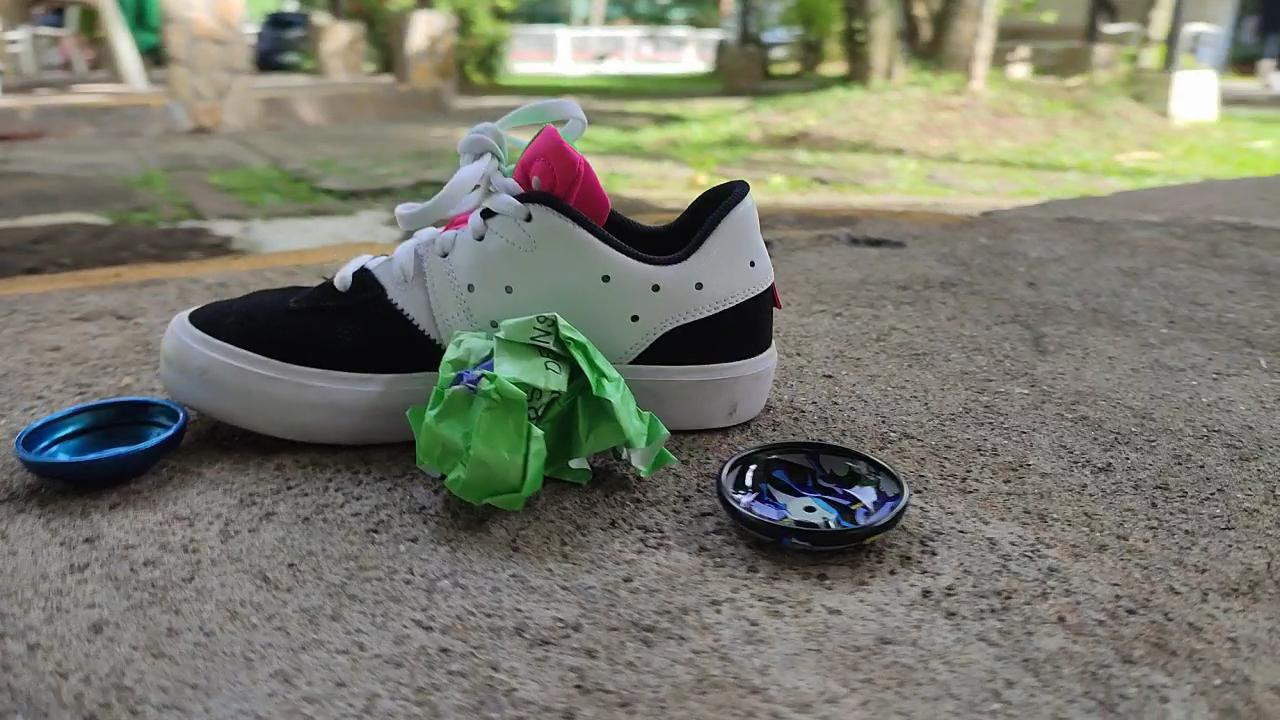Paper: (396, 287, 680, 508)
